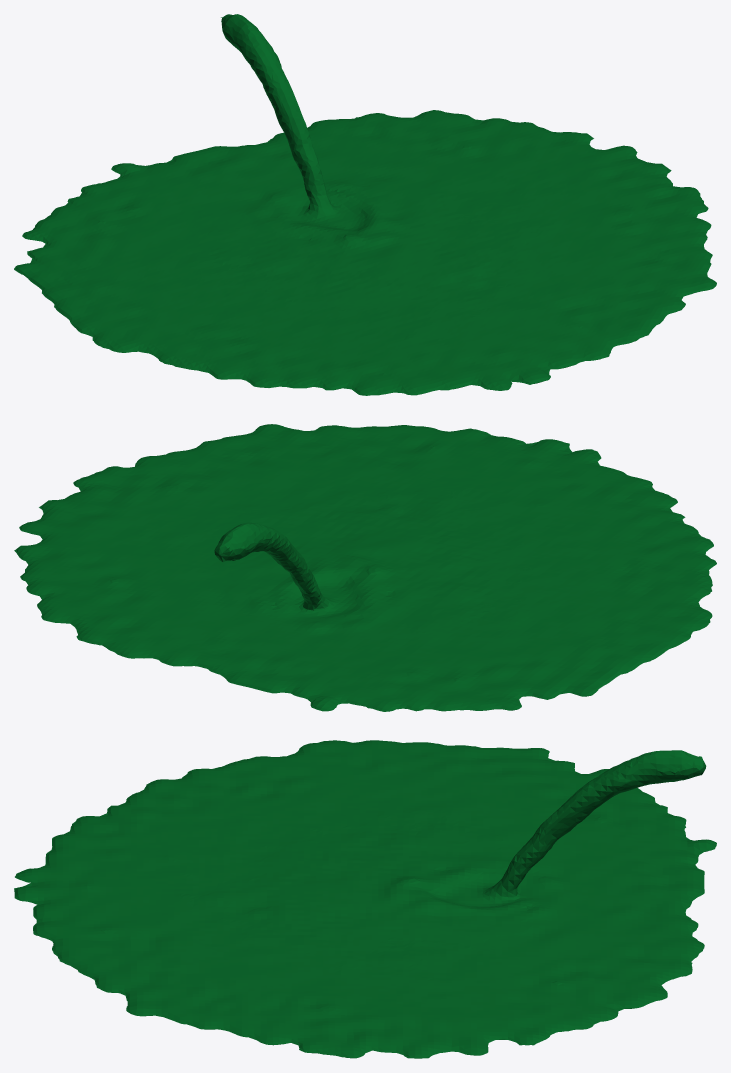
File: fluid_55.fbx
3 renders of one model, top to bottom at view 1: azimuth 30°, elevation 25°; view 2: azimuth 150°, elevation 25°; view 3: azimuth 270°, elevation 25°, orthographic. The views are drawn at different scales.
Parts seen in each view (by area): view 1: Cube; view 2: Cube; view 3: Cube.
Part boxes in pixels (x1,y1,x2,y2): Cube: (14, 14, 716, 395); Cube: (14, 424, 716, 711); Cube: (14, 740, 716, 1058).
Size of the model in its own units: 798 by 177 by 746.
